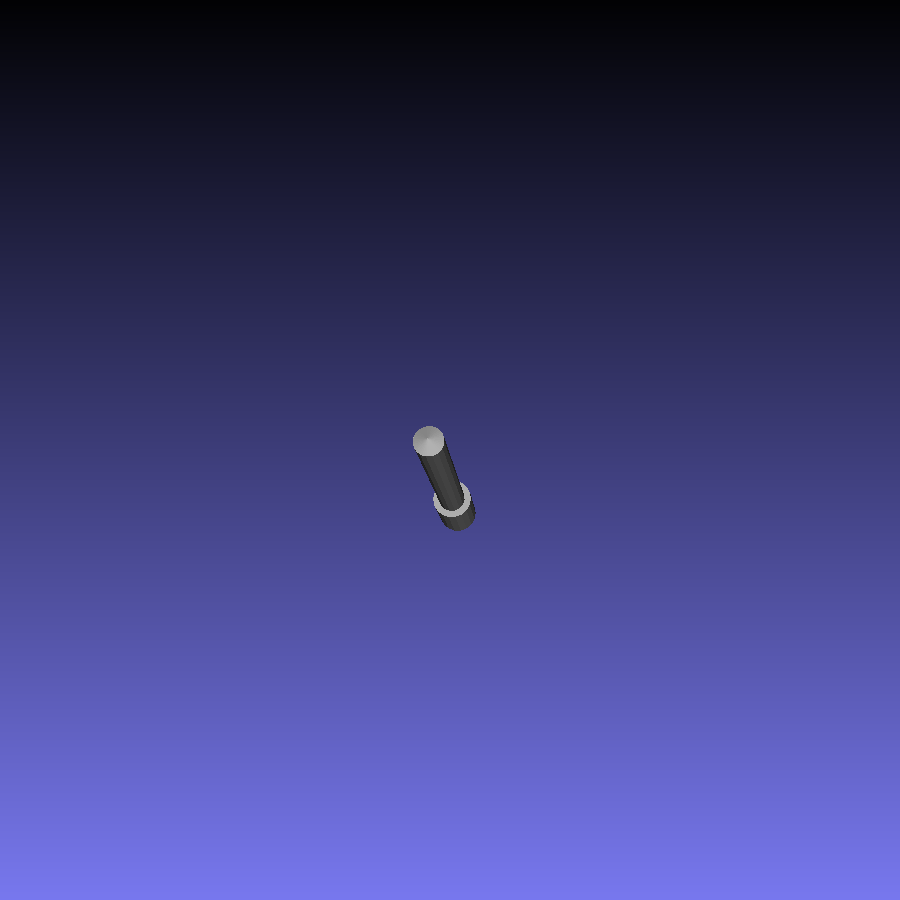cargo_g: (414, 424, 476, 531)
